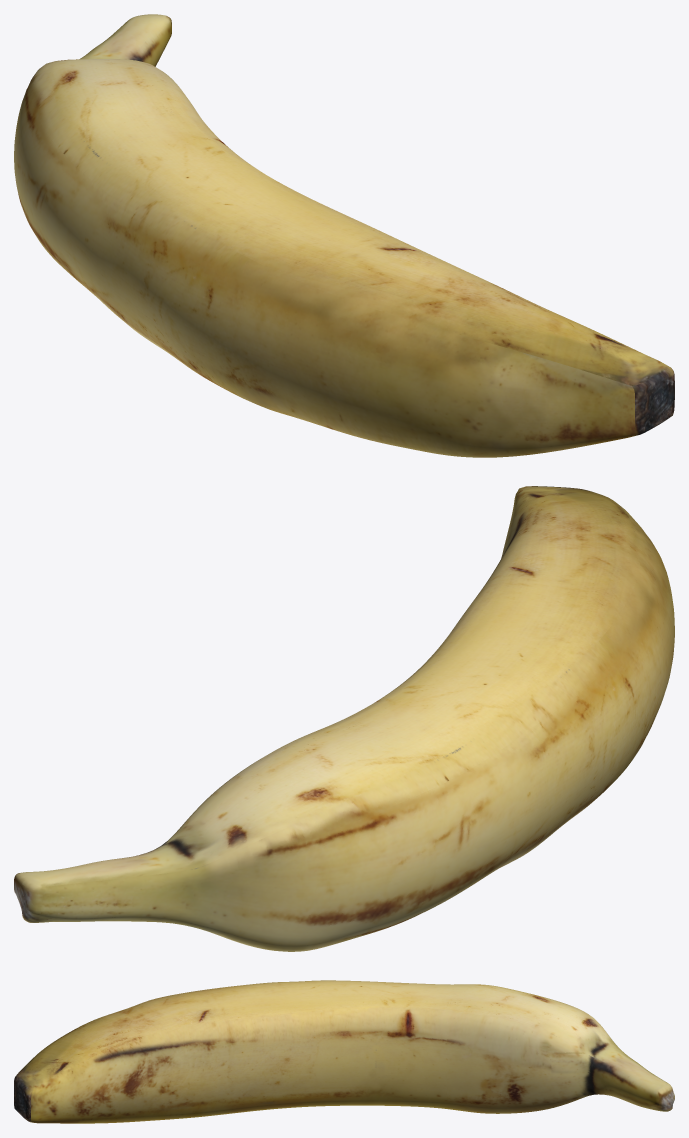
Rendered from banana.obj.
The picture shows the model from 3 angles, top to bottom: view 1: azimuth 30°, elevation 25°; view 2: azimuth 150°, elevation 25°; view 3: azimuth 270°, elevation 25°; orthographic projection. The views are drawn at different scales.
Visible parts, largest first — view 1: banana.001_Cube.005; view 2: banana.001_Cube.005; view 3: banana.001_Cube.005.
Boxes of the visible parts, left/top/right/bottom form: banana.001_Cube.005: left=14, top=14, right=674, bottom=457; banana.001_Cube.005: left=14, top=486, right=674, bottom=951; banana.001_Cube.005: left=14, top=980, right=674, bottom=1123.
Size of the model in its own units: 4.21 by 2.19 by 12.54.
1 material, 1 textured.
